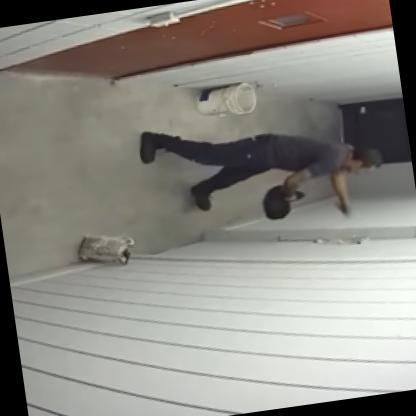Human Body: (124, 84, 391, 250)
